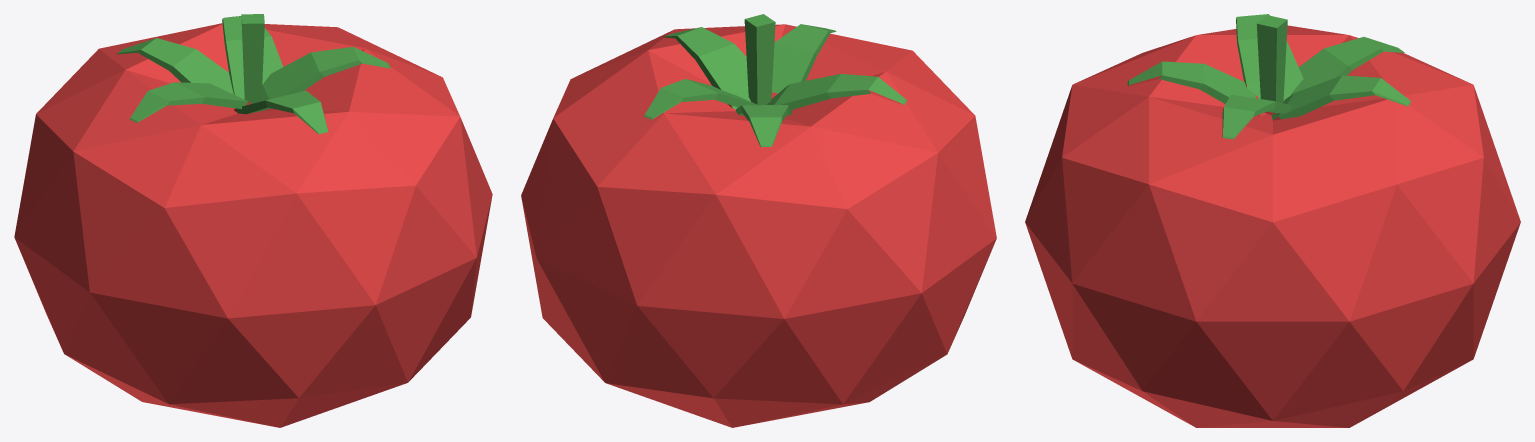
File: SM_Tomato.fbx
3 views of the same model, side by side, from view 1: azimuth 30°, elevation 25°; view 2: azimuth 150°, elevation 25°; view 3: azimuth 270°, elevation 25° (orthographic).
Parts seen in each view (by area): view 1: tomato; view 2: tomato; view 3: tomato.
Boxes of the visible parts, left/top/right/bottom form: tomato: left=14, top=14, right=492, bottom=427; tomato: left=521, top=14, right=996, bottom=427; tomato: left=1025, top=14, right=1520, bottom=427.
Bounding box in the file's own units: 40.24 × 35.79 × 42.31.
